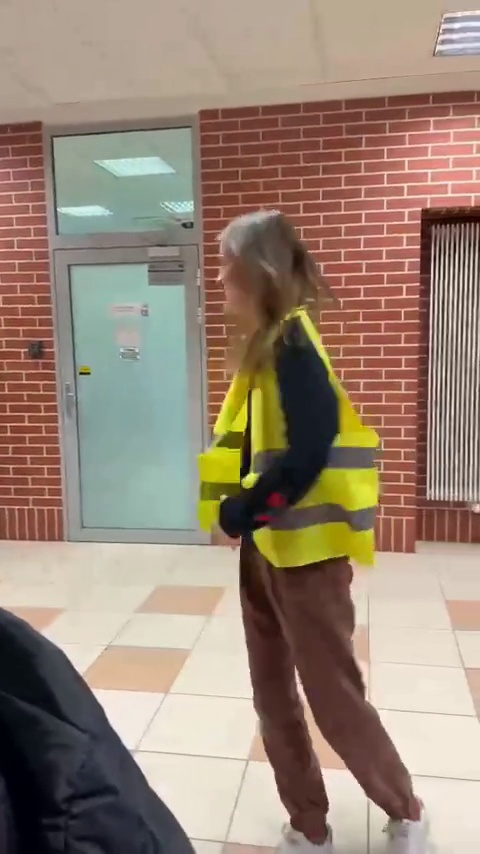vest: (202, 207, 428, 854)
